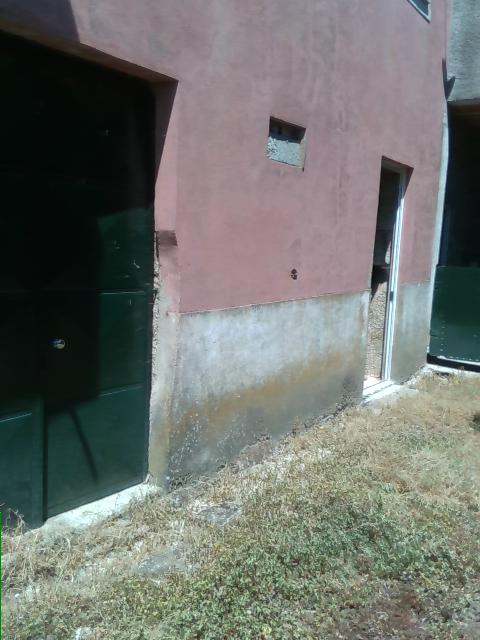door: (1, 35, 157, 535)
